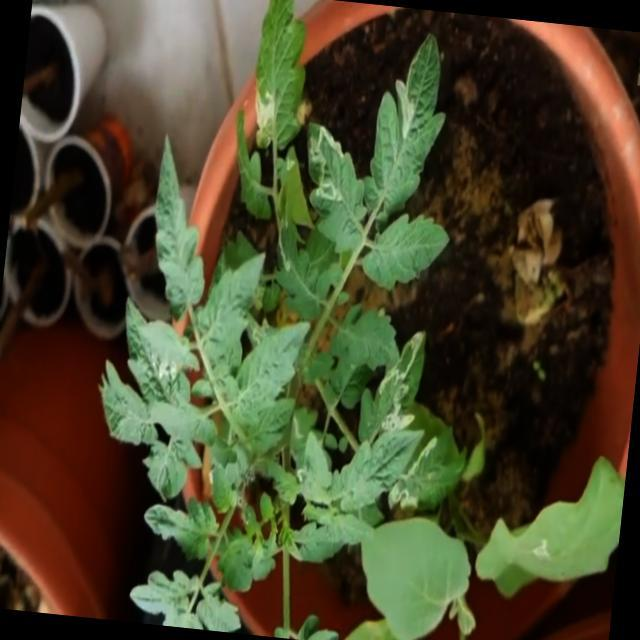Tomato target spot leaf: (366, 26, 454, 219), (294, 116, 376, 255), (247, 0, 314, 155), (387, 398, 472, 514), (356, 322, 428, 450), (266, 210, 336, 320)
